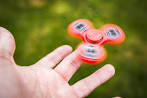fidget_spinner: (58, 10, 128, 71)
